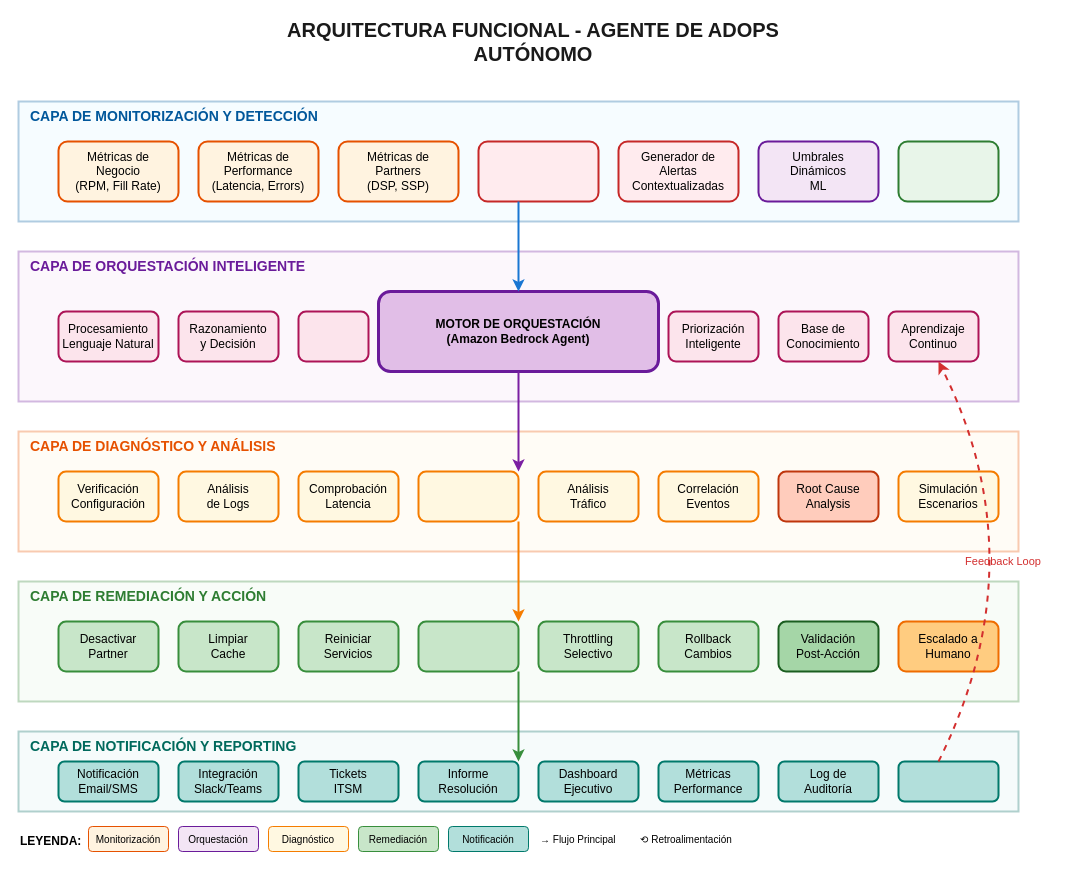
Image size: 1065x869. Some labels were removed from this diagram. Here are the shapes that lost their labels. From the top down, the centre of each, then its label:
At pixel 538 171: "Sistema de Detección de Anomalías".
At pixel 948 171: "Dashboard Tiempo Real".
At pixel 333 336: "Gestión de Contexto".
At pixel 468 496: "Validación APIs".
At pixel 468 646: "Ajustar Config".
At pixel 948 781: "Analytics BI".
